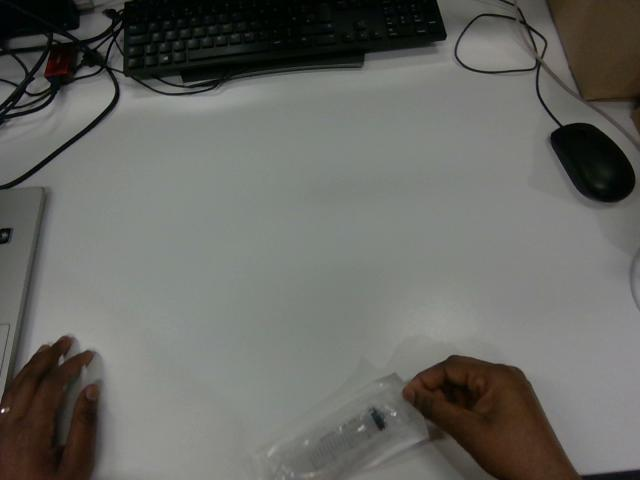syringe: (250, 374, 427, 479)
